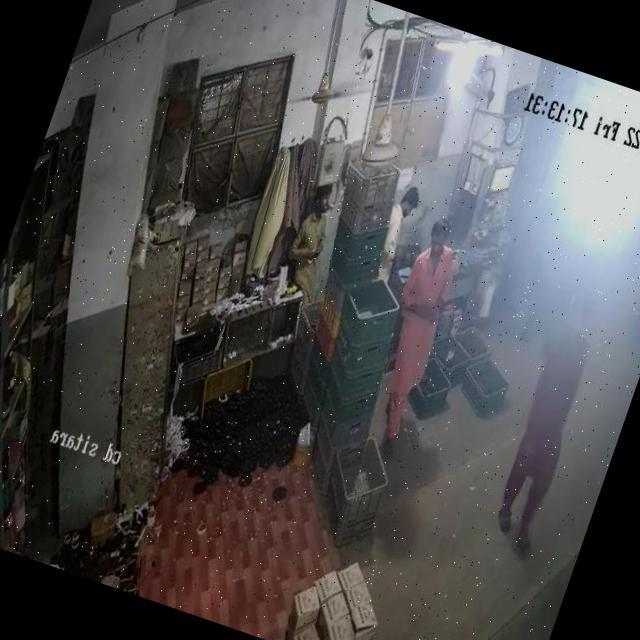person: (482, 290, 609, 552), (360, 216, 473, 444), (268, 180, 344, 328), (366, 181, 420, 286)
